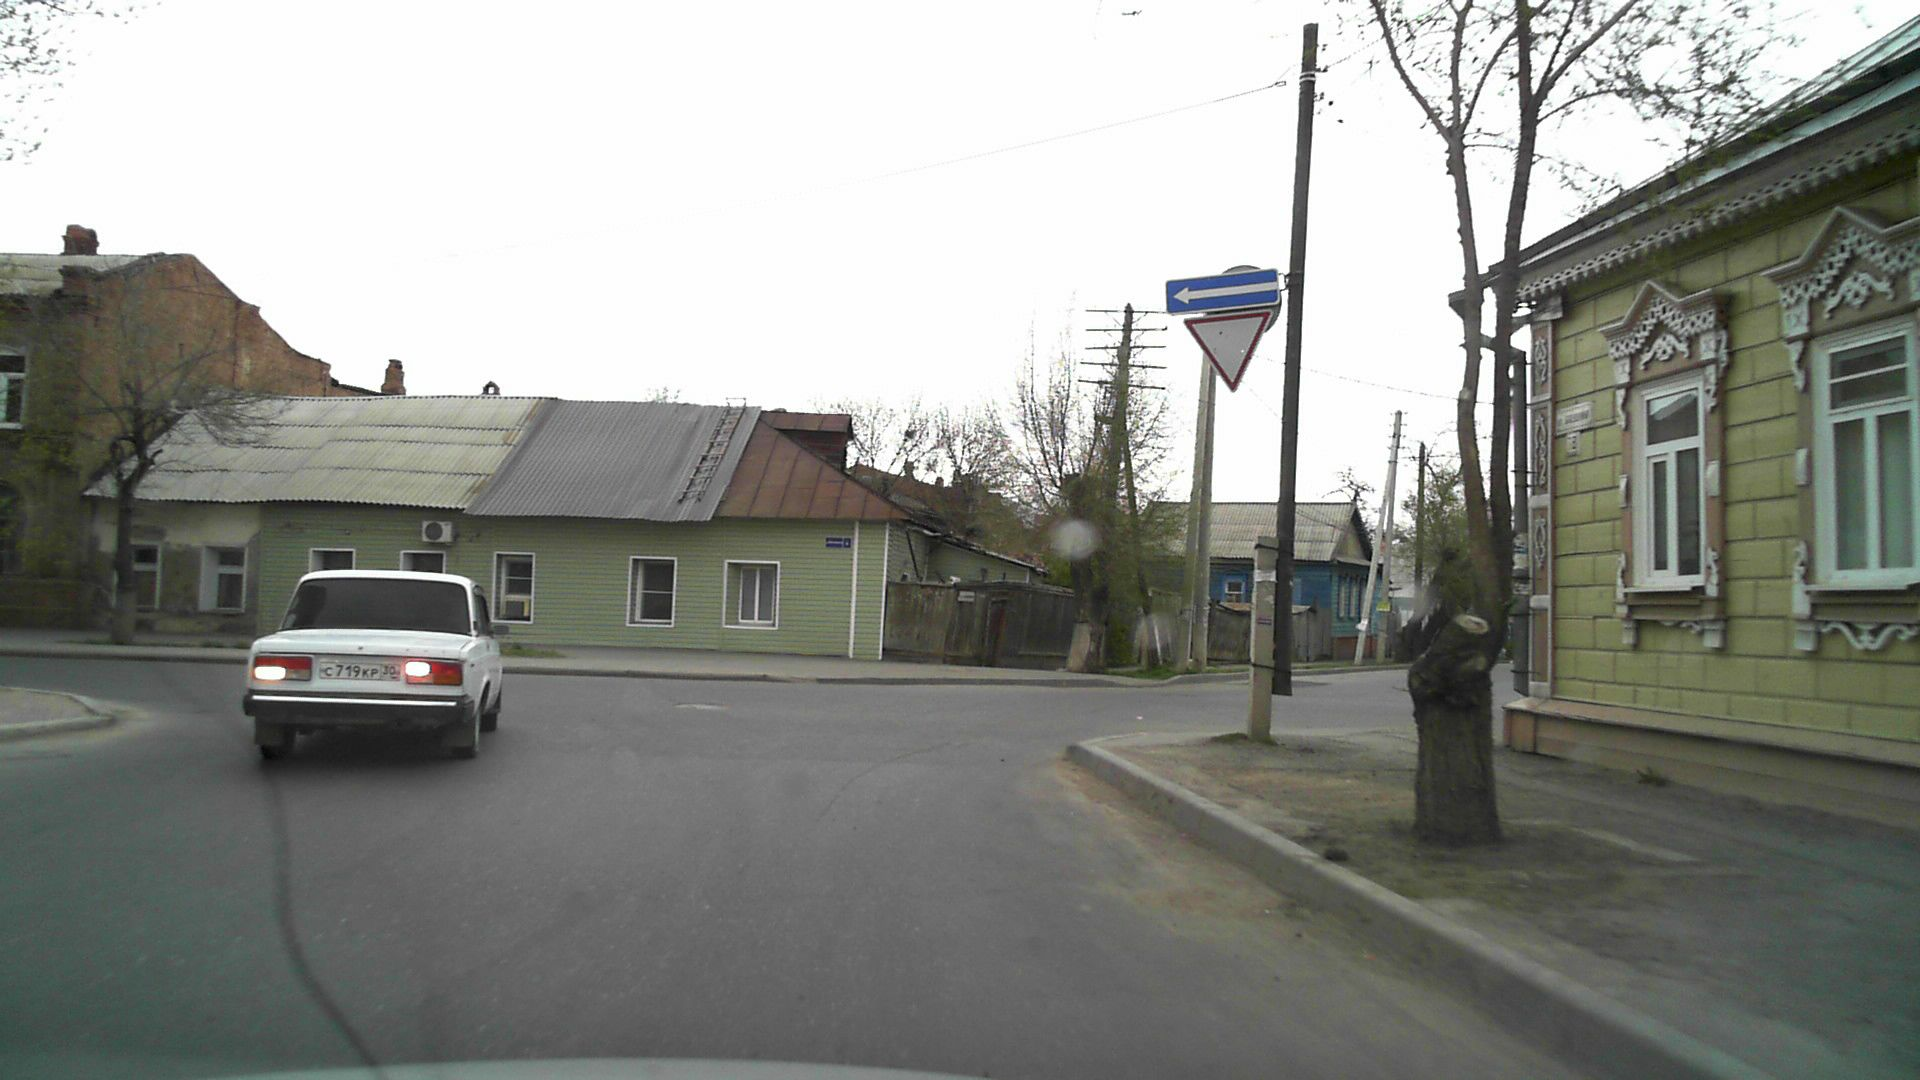One-Way Traffic: (1167, 269, 1279, 313)
